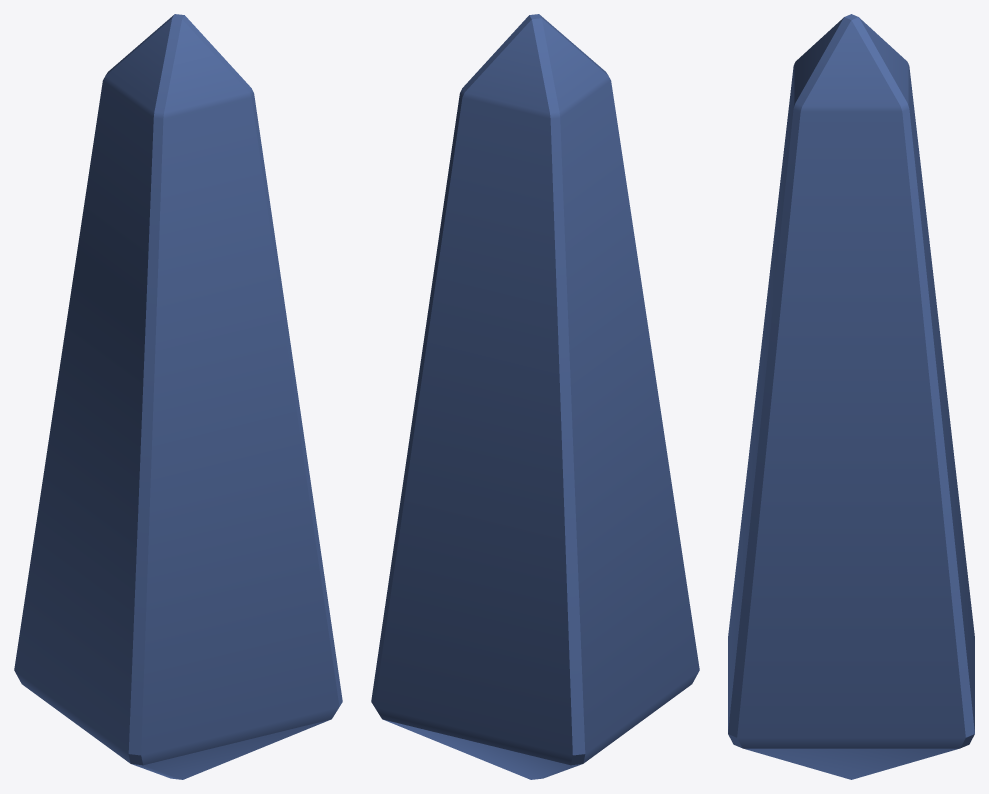
Rendered from Pillar_01.fbx.
The picture shows the model from 3 angles, left to right: view 1: azimuth 30°, elevation 25°; view 2: azimuth 150°, elevation 25°; view 3: azimuth 270°, elevation 25°; orthographic projection.
Visible parts, largest first — view 1: Pillar_01; view 2: Pillar_01; view 3: Pillar_01.
Boxes of the visible parts, bbox=[...] form: Pillar_01: bbox=[14, 14, 342, 779]; Pillar_01: bbox=[371, 14, 699, 779]; Pillar_01: bbox=[728, 14, 974, 779].
Bounding box in the file's own units: 85.8 × 291 × 85.8.
